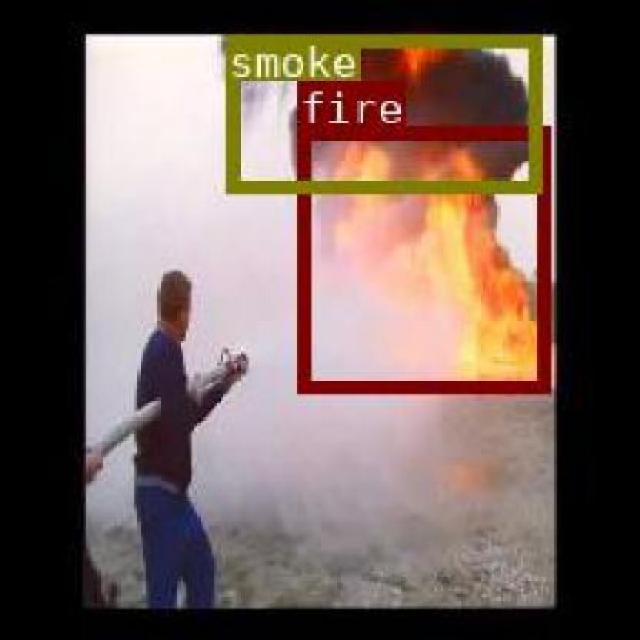Fire: (296, 124, 547, 390)
Smoke: (223, 32, 539, 191)
